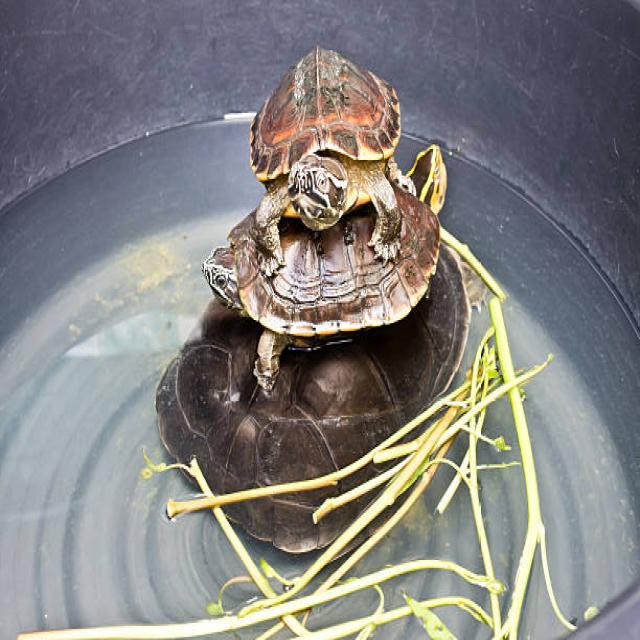terrapin: (134, 263, 516, 563), (201, 140, 468, 343), (226, 19, 423, 261), (289, 158, 342, 243)
